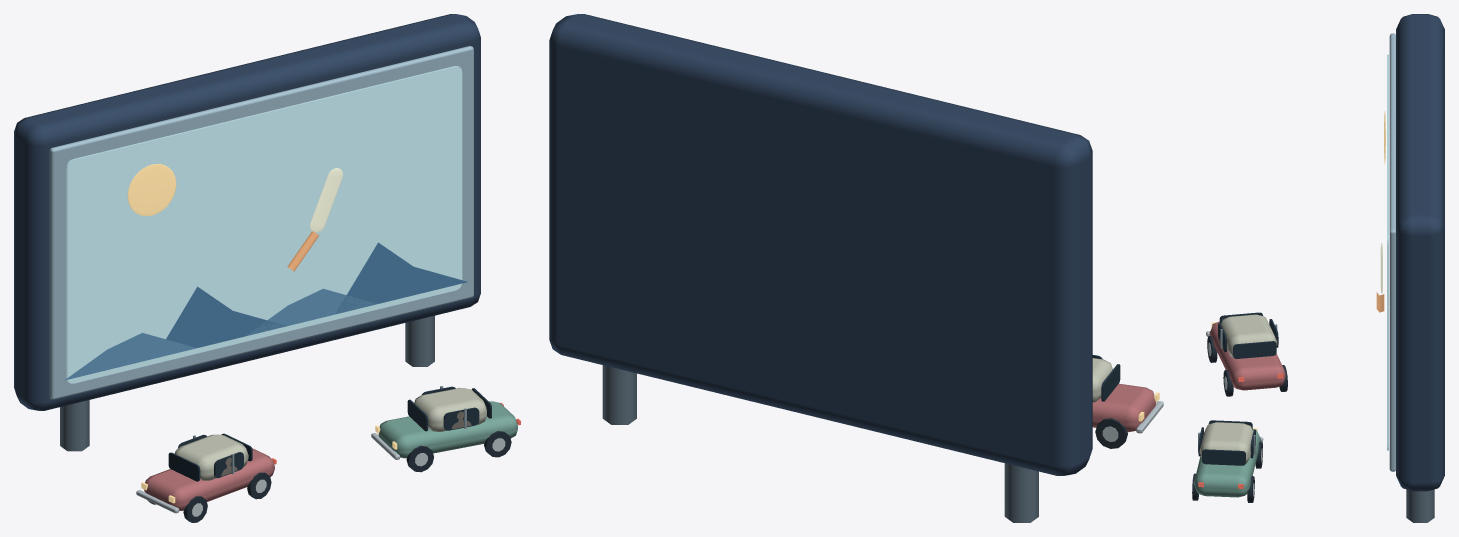
File: drivein-map.glb
3 views of the same model, side by side, from view 1: azimuth 30°, elevation 25°; view 2: azimuth 150°, elevation 25°; view 3: azimuth 270°, elevation 25° (orthographic). The views are drawn at different scales.
Parts seen in each view (by area): view 1: place-drivein-map, place-static, movie; view 2: place-static; view 3: place-static, place-drivein-map, movie.
Part boxes in pixels (x1,y1,x2,y2): place-drivein-map: (66,66,462,383); place-static: (14,14,520,522); movie: (64,164,467,380); place-static: (549,14,1163,522); place-static: (1192,14,1444,522); place-drivein-map: (1387,54,1388,450); movie: (1376,111,1385,312).
Size of the model in its own units: 4.98 by 3.5 by 2.49.
